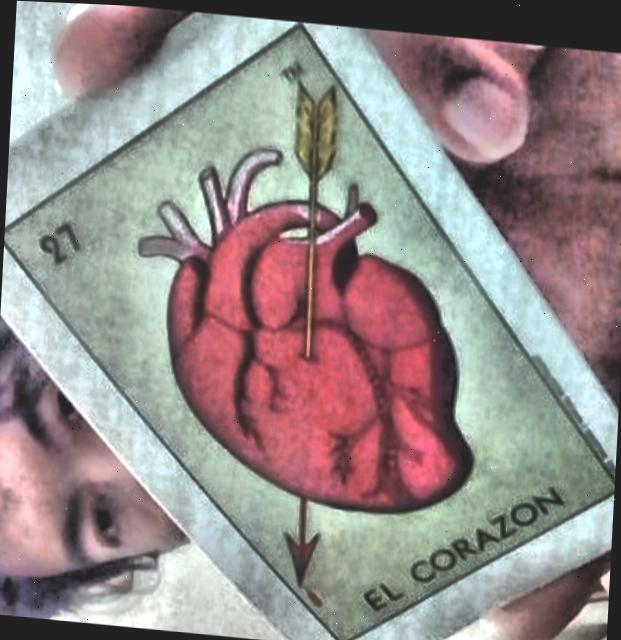El Corazon: (3, 20, 615, 640)
